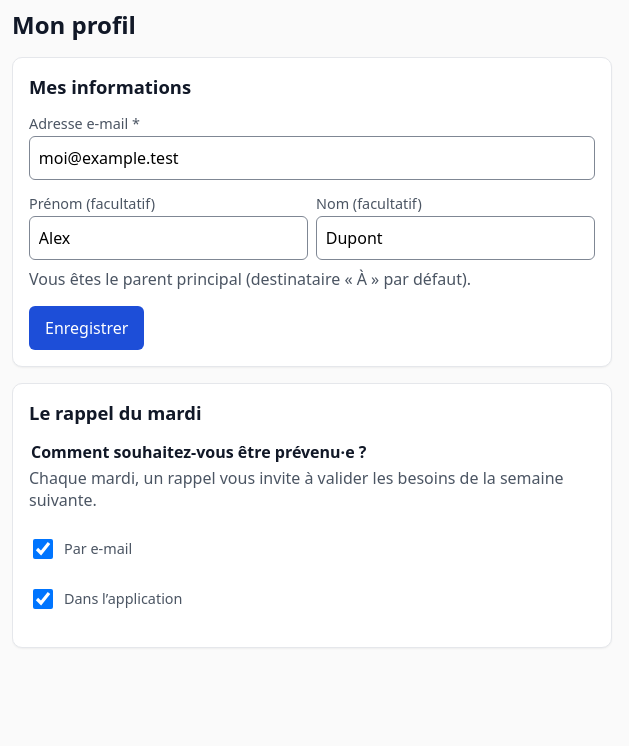
Test: MonProfilPage › annule le décochage et affiche un message si l’API refuse (400)
Click the checkbox labelled "Dans l’application": coordinates (43, 599) [33, 589, 53, 609]
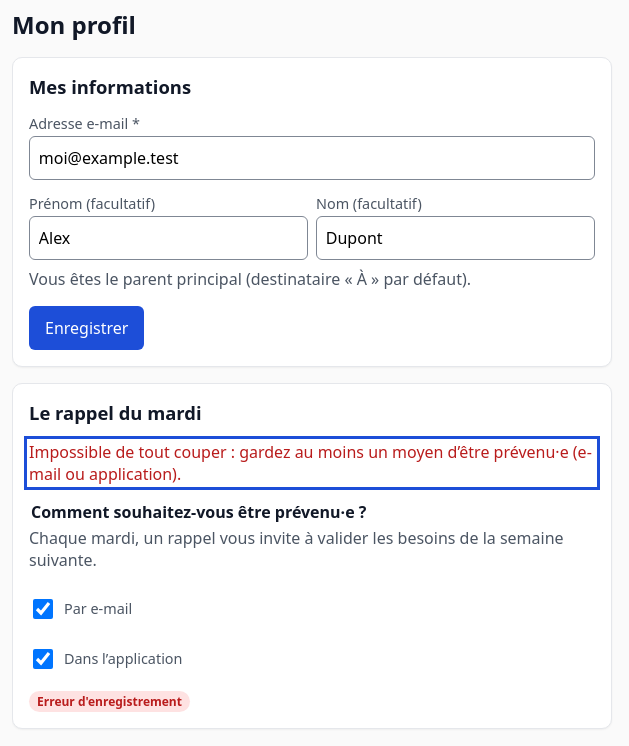
Expected: the checkbox labelled "Dans l’application" is checked, [33, 649, 53, 669]
Result: the 1st message shows "gardez au moins un moyen" at [29, 441, 592, 485]
